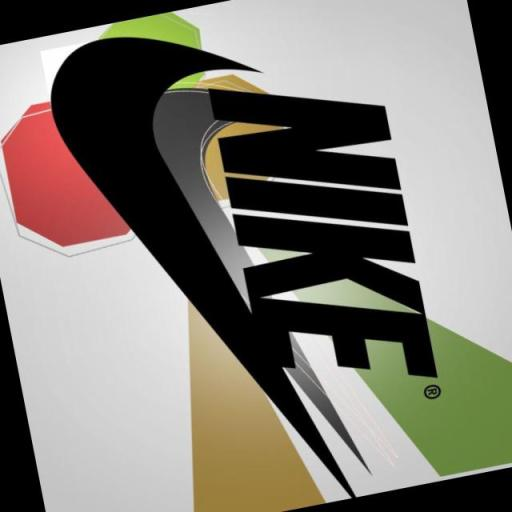Nike: (41, 19, 289, 445), (204, 54, 443, 412)
